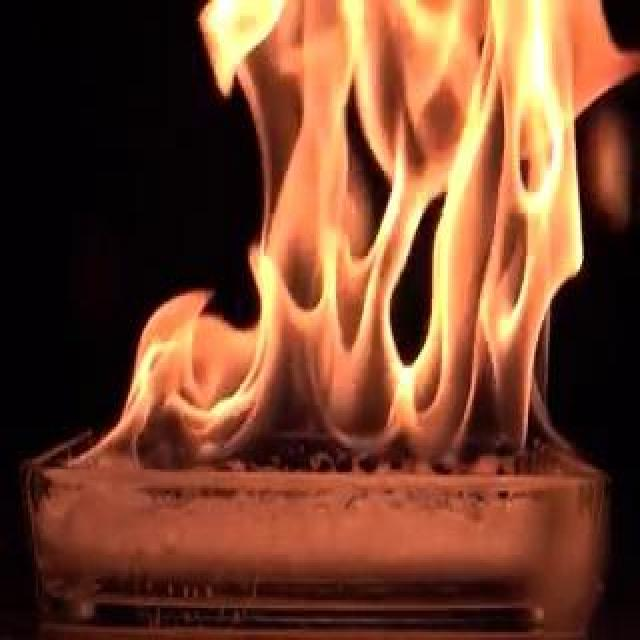Fire: (66, 2, 636, 482)
